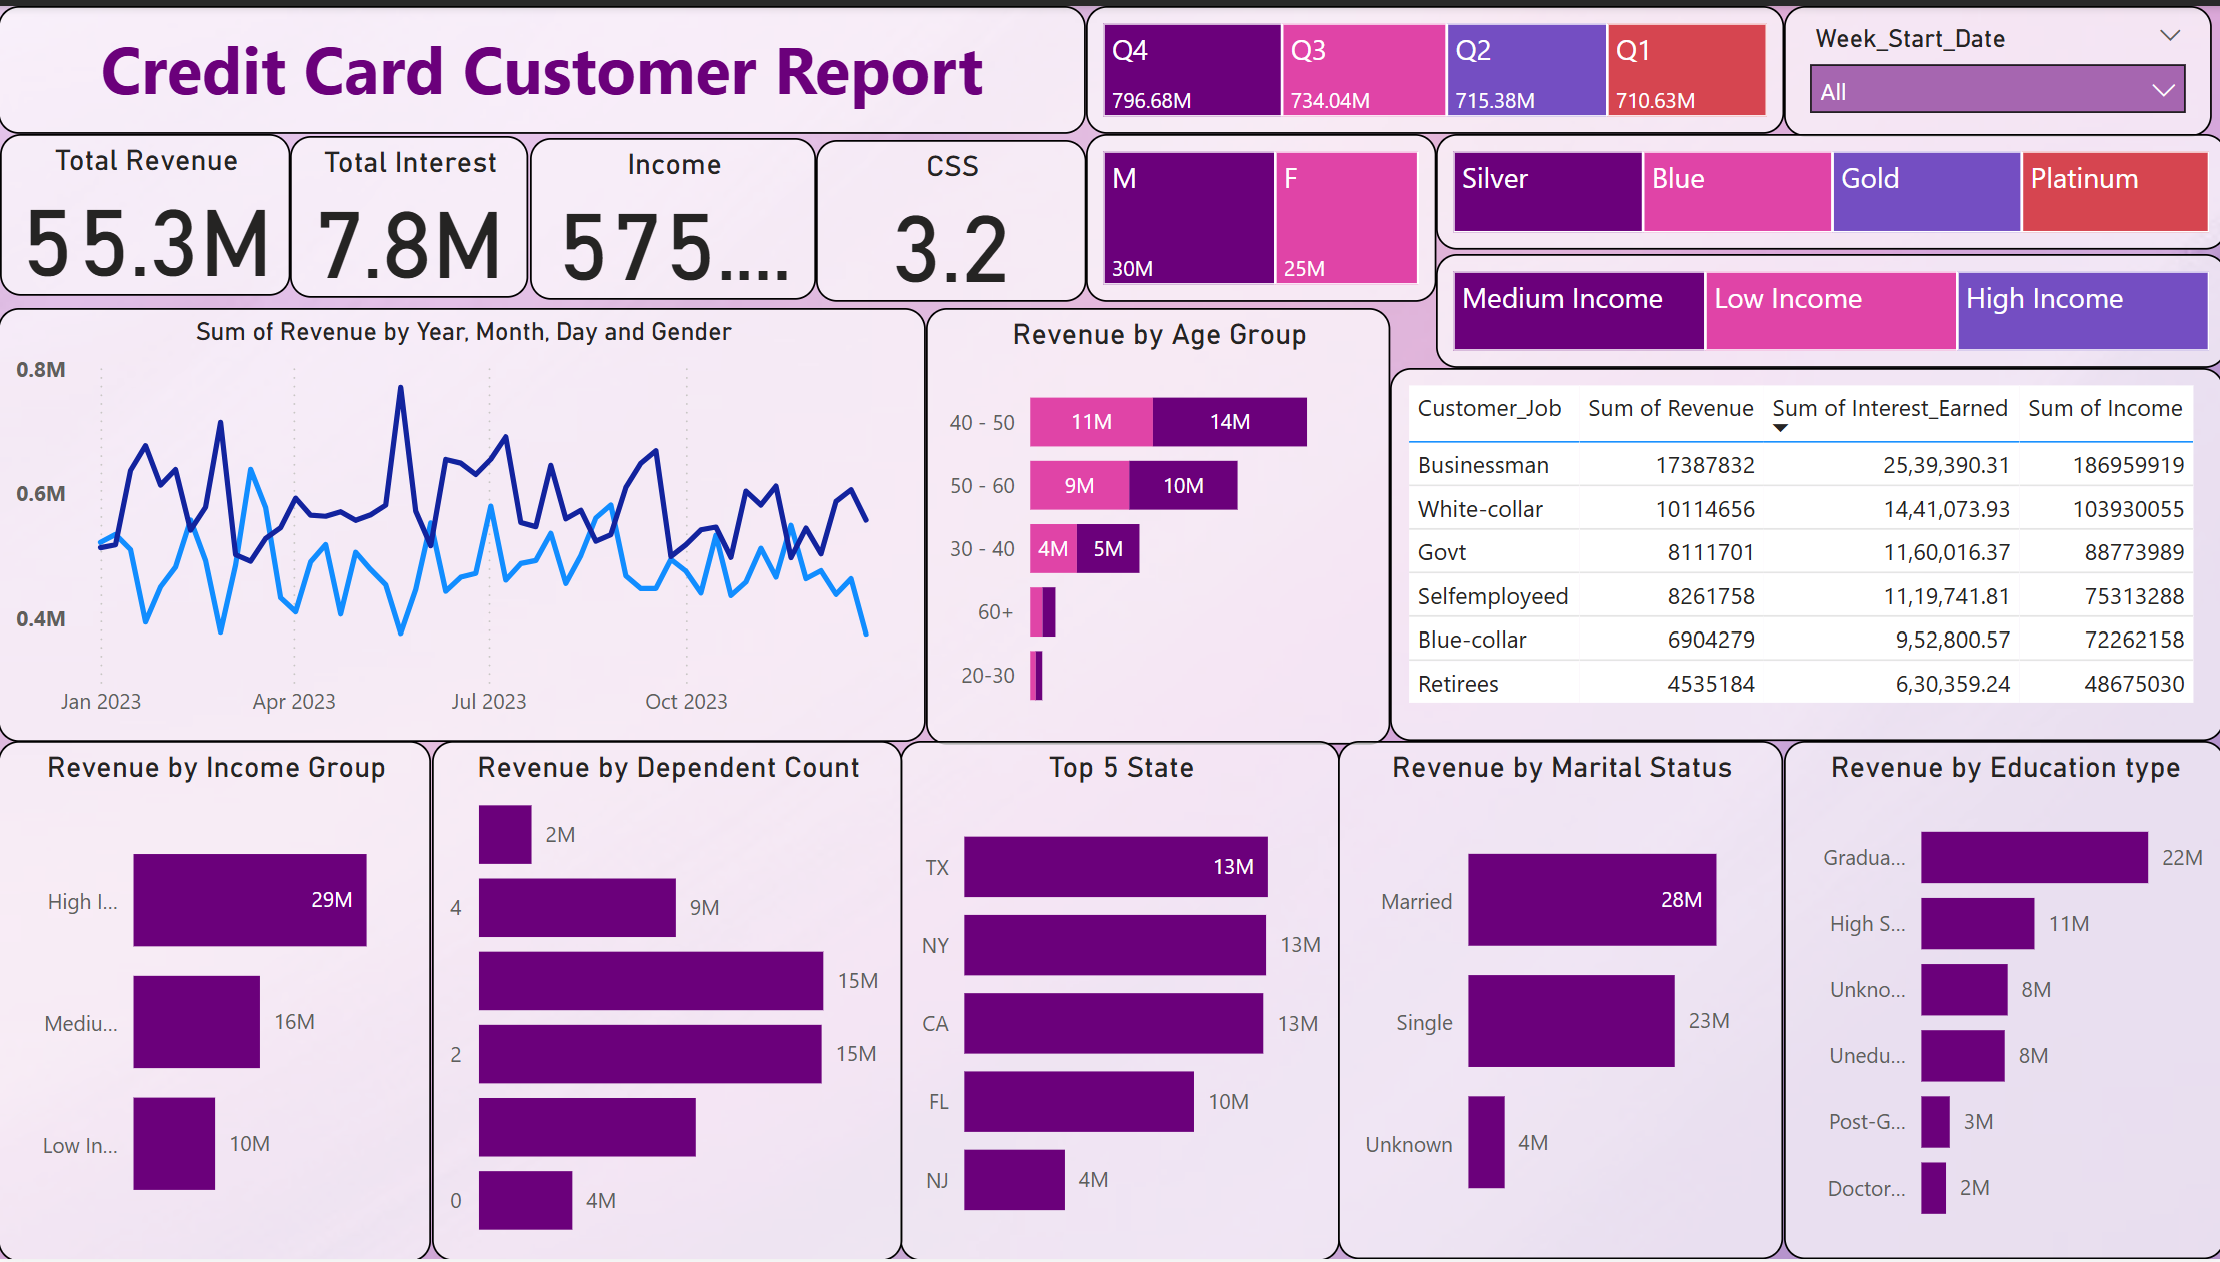

Layout of this report page (visuals, bound fields, positions):
{"tool":"powerbi","page":{"name":"Dashboard2","canvas":[1280,720],"ordinal":2},"visuals":[{"type":"textbox","box":[0,0,625.6,73.6],"z":0},{"type":"barChart","title":"Revenue by Income Group","fields":{"Y":["Sum(cc_detail.Revenue)"],"Category":["cust_detail.IncomeGroup"]},"box":[0,422.6,249.2,299.3],"z":1000},{"type":"tableEx","fields":{"Values":["cust_detail.Customer_Job","Sum(cc_detail.Revenue)","Sum(cc_detail.Interest_Earned)","Sum(cust_detail.Income)"]},"box":[800.5,208.6,479.5,214],"z":2000},{"type":"card","title":"Total Revenue","fields":{"Values":["Sum(cc_detail.Revenue)"]},"box":[1.2,73.6,166.8,93.2],"z":3000},{"type":"card","title":"Income","fields":{"Values":["Sum(cust_detail.Income)"]},"box":[305.9,75.9,164.5,93.2],"z":4000},{"type":"card","title":"Total Interest","fields":{"Values":["Sum(cc_detail.Interest_Earned)"]},"box":[167.9,74.8,136.9,93.2],"z":5000},{"type":"card","title":"CSS","fields":{"Values":["Avg(cust_detail.Cust_Satisfaction_Score)"]},"box":[470.4,77.1,155.3,93.2],"z":6000},{"type":"slicer","fields":{"Values":["cc_detail.Week_Start_Date"]},"box":[1027,0,246.1,74.8],"z":7000},{"type":"treemap","fields":{"Group":["cc_detail.Qtr"],"Values":["Avg(cc_detail.Client_Num)"]},"box":[625.6,0,401.4,73.6],"z":8000},{"type":"treemap","fields":{"Values":["Avg(cc_detail.Client_Num)"],"Group":["cc_detail.Card_Category"]},"box":[826.9,73.6,454.3,66.7],"z":9000},{"type":"treemap","fields":{"Values":["Avg(cc_detail.Client_Num)"],"Group":["cust_detail.IncomeGroup"]},"box":[826.9,142.6,454.3,65.6],"z":10000},{"type":"lineChart","fields":{"Y":["Sum(cc_detail.Revenue)"],"Series":["cust_detail.Gender"],"Category":["cc_detail.Week_Start_Date.Variation.Date Hierarchy.Year","cc_detail.Week_Start_Date.Variation.Date Hierarchy.Month","cc_detail.Week_Start_Date.Variation.Date Hierarchy.Day"]},"box":[0,173.4,533.7,249.2],"z":11000},{"type":"treemap","fields":{"Group":["cust_detail.Gender"],"Values":["Sum(cc_detail.Revenue)"]},"box":[625.6,73.6,201.3,96.6],"z":12000},{"type":"barChart","title":"Revenue by Age Group","fields":{"Y":["Sum(cc_detail.Revenue)"],"Category":["cust_detail.AgeGroup"],"Series":["cust_detail.Gender"]},"box":[533.6,173.7,266.8,250.7],"z":14000},{"type":"barChart","title":"Revenue by Education type","fields":{"Y":["Sum(cc_detail.Revenue)"],"Category":["cust_detail.Education_Level"]},"box":[1026.7,422.6,253.3,298],"z":15000},{"type":"barChart","title":"Top 5 State","fields":{"Y":["Sum(cc_detail.Revenue)"],"Category":["cust_detail.state_cd"]},"box":[518.7,422.1,253,299],"z":16000},{"type":"barChart","title":"Revenue by Marital Status","fields":{"Y":["Sum(cc_detail.Revenue)"],"Category":["cust_detail.Marital_Status"]},"box":[770.7,422.6,256,298],"z":17000},{"type":"barChart","title":"Revenue by Dependent Count","fields":{"Y":["Sum(cc_detail.Revenue)"],"Category":["cust_detail.Dependent_Count"]},"box":[249.6,422.1,270.3,299],"z":18000}]}

Visuals, with their boxes in screenshot pixels (x1, y1, x2, y2), scaled from the page's 1280x720 canvas onto the 2220x1262 screenshot:
textbox: (0, 0, 1085, 129)
"Revenue by Income Group" barChart: (0, 741, 432, 1261)
tableEx - cust_detail.Customer_Job x Sum(cc_detail.Revenue): (1388, 366, 2219, 741)
"Total Revenue" card: (2, 129, 291, 292)
"Income" card: (531, 133, 816, 296)
"Total Interest" card: (291, 131, 529, 294)
"CSS" card: (816, 135, 1085, 298)
slicer - cc_detail.Week_Start_Date: (1781, 0, 2208, 131)
treemap - cc_detail.Qtr x Avg(cc_detail.Client_Num): (1085, 0, 1781, 129)
treemap - Avg(cc_detail.Client_Num) x cc_detail.Card_Category: (1434, 129, 2219, 246)
treemap - Avg(cc_detail.Client_Num) x cust_detail.IncomeGroup: (1434, 250, 2219, 365)
lineChart - Sum(cc_detail.Revenue) x cust_detail.Gender: (0, 304, 926, 741)
treemap - cust_detail.Gender x Sum(cc_detail.Revenue): (1085, 129, 1434, 298)
"Revenue by Age Group" barChart: (925, 304, 1388, 744)
"Revenue by Education type" barChart: (1781, 741, 2219, 1261)
"Top 5 State" barChart: (900, 740, 1338, 1261)
"Revenue by Marital Status" barChart: (1337, 741, 1781, 1261)
"Revenue by Dependent Count" barChart: (433, 740, 902, 1261)
